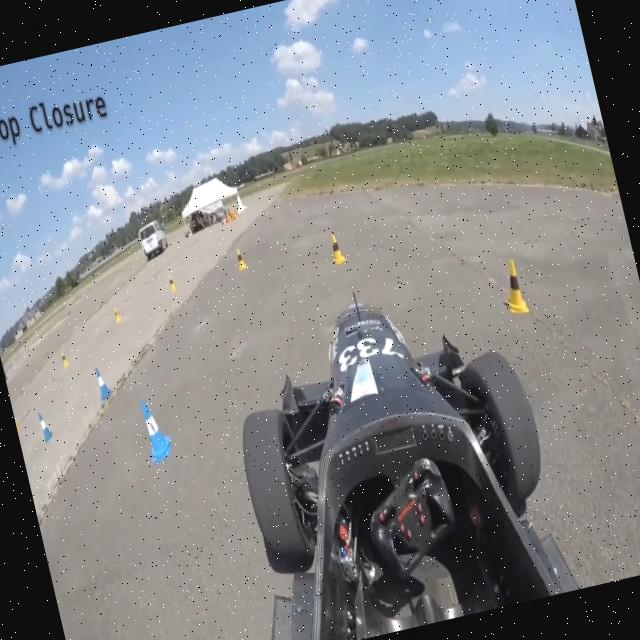blue_cone: (138, 396, 176, 462), (93, 366, 114, 400), (37, 409, 54, 444)
yellow_cone: (496, 258, 529, 314), (325, 230, 346, 264), (234, 247, 248, 272)
